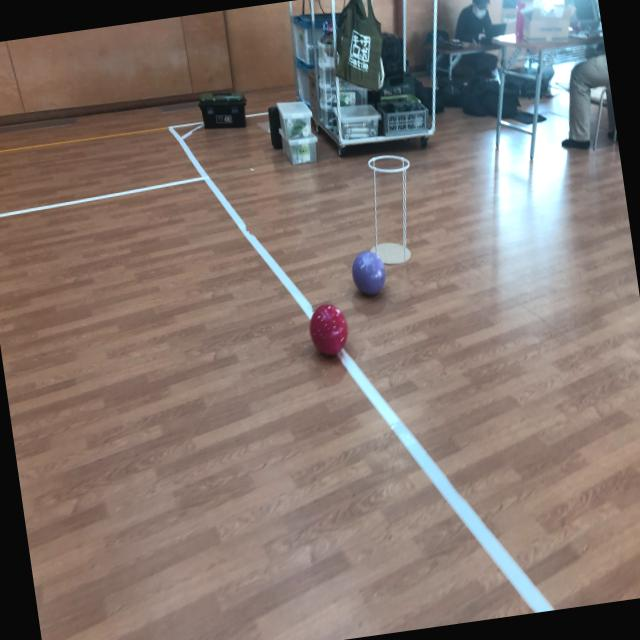purple_ball: (348, 248, 390, 298)
red_ball: (307, 300, 351, 358)
